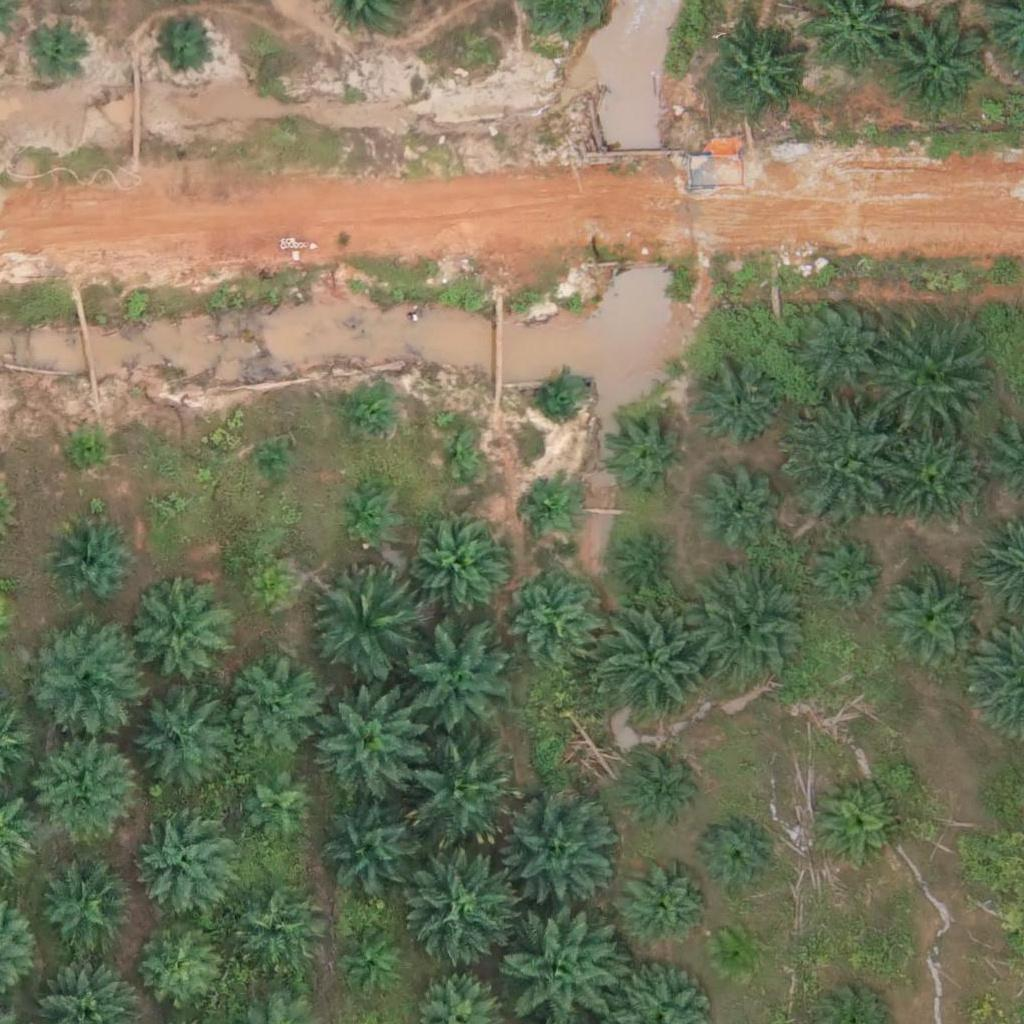Kelapa_Sawit: (693, 577, 806, 691), (598, 600, 711, 713), (397, 624, 510, 737), (410, 857, 523, 970), (306, 564, 419, 677), (311, 696, 424, 809), (879, 11, 992, 124), (499, 790, 611, 904), (27, 619, 139, 733), (875, 327, 987, 440), (785, 406, 897, 519), (408, 741, 520, 854), (881, 425, 981, 526), (787, 292, 887, 393), (317, 803, 417, 904), (134, 587, 234, 688), (32, 744, 132, 845), (707, 23, 807, 124), (882, 567, 982, 667), (413, 516, 513, 616), (226, 882, 326, 982), (228, 657, 328, 757), (135, 694, 235, 794), (128, 814, 228, 914), (47, 516, 135, 604), (40, 863, 128, 951), (693, 363, 780, 452), (800, 533, 887, 621), (693, 462, 780, 550), (509, 566, 596, 654), (603, 410, 690, 498), (813, 783, 900, 871), (137, 925, 224, 1013), (630, 869, 705, 945), (697, 821, 772, 897), (621, 747, 696, 822), (240, 764, 315, 839), (340, 930, 403, 993), (20, 19, 83, 82), (153, 15, 215, 78), (525, 479, 575, 530), (708, 929, 758, 979), (532, 369, 582, 419), (623, 538, 673, 588), (435, 432, 485, 482), (343, 386, 393, 436), (338, 489, 388, 539), (252, 447, 290, 485), (66, 431, 103, 469), (242, 566, 279, 603), (155, 494, 180, 520)
